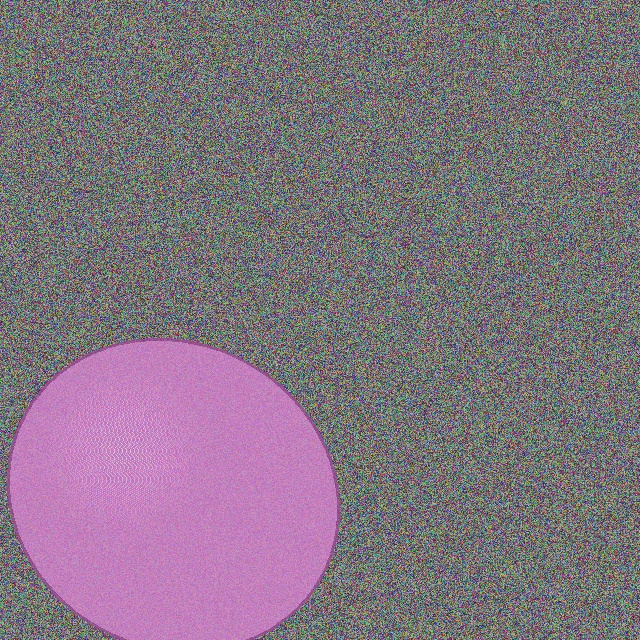lens: (8, 339, 338, 640)
